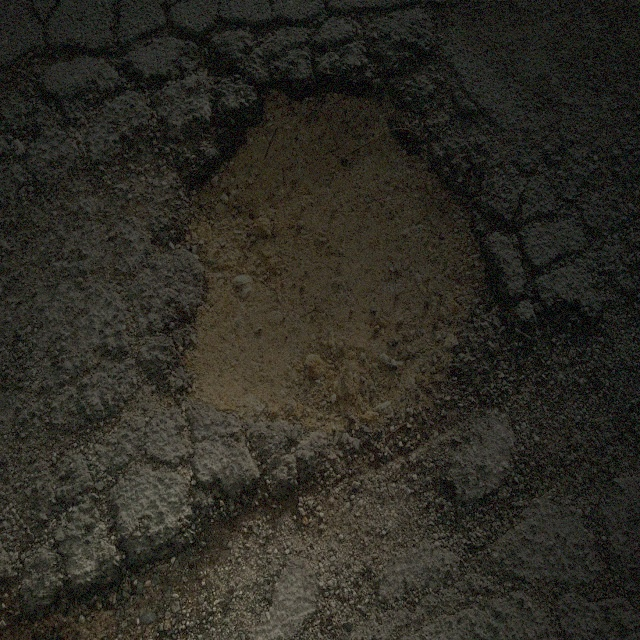pothole: (173, 62, 505, 444)
